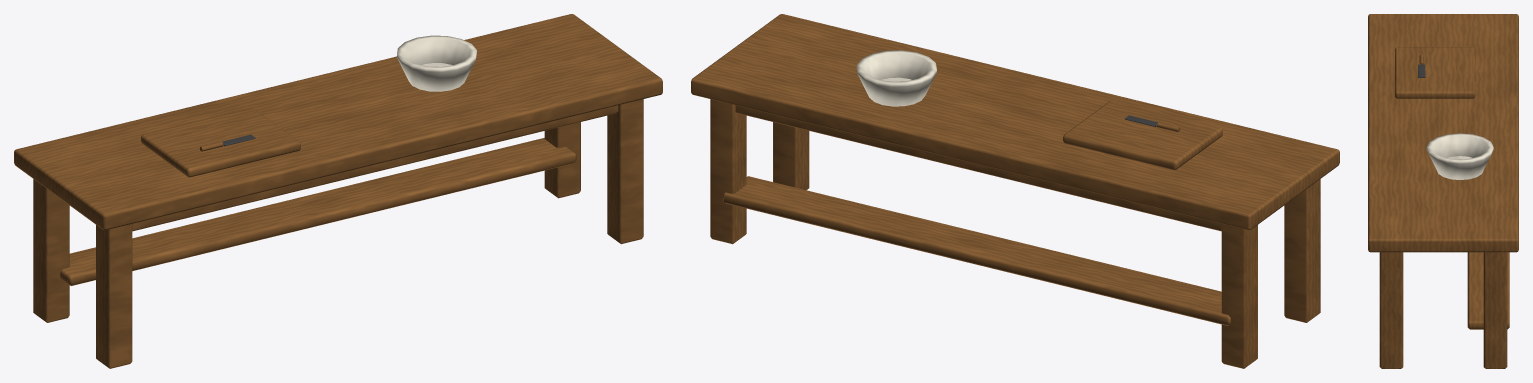
Rendered from Furn_KitchenIsland.fbx.
3 views of the same model, side by side, from view 1: azimuth 30°, elevation 25°; view 2: azimuth 150°, elevation 25°; view 3: azimuth 270°, elevation 25° (orthographic). The views are drawn at different scales.
Parts seen in each view (by area): view 1: Furn_KitchenIsland_Mesh; view 2: Furn_KitchenIsland_Mesh; view 3: Furn_KitchenIsland_Mesh.
Part boxes in pixels (left/top/right/bottom): Furn_KitchenIsland_Mesh: left=14, top=14, right=662, bottom=368; Furn_KitchenIsland_Mesh: left=691, top=14, right=1339, bottom=368; Furn_KitchenIsland_Mesh: left=1368, top=14, right=1518, bottom=368.
Size of the model in its own units: 3.2 by 1.04 by 0.9.
Materials: 3 (3 with a texture image).
